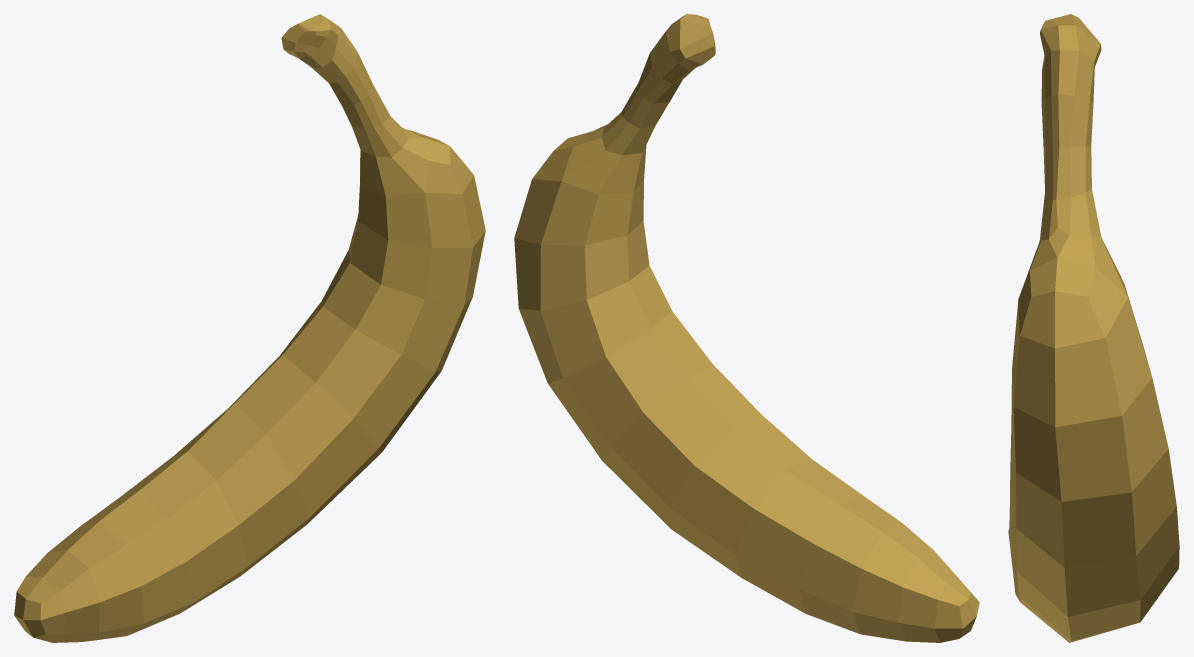
File: Banana.gltf
The picture shows the model from 3 angles, left to right: view 1: azimuth 30°, elevation 25°; view 2: azimuth 150°, elevation 25°; view 3: azimuth 270°, elevation 25°; orthographic projection. The views are drawn at different scales.
Visible parts, largest first — view 1: Banana; view 2: Banana; view 3: Banana.
Part boxes in pixels (x1=…): Banana: x1=14, y1=14, x2=485, y2=642; Banana: x1=514, y1=14, x2=979, y2=642; Banana: x1=1008, y1=14, x2=1179, y2=642.
Size of the model in its own units: 1.18 by 1.4 by 0.3095.
